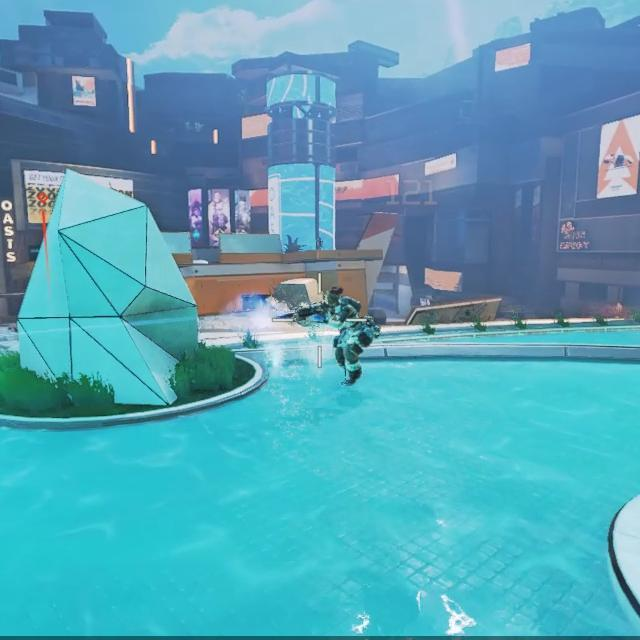avatar: (322, 283, 382, 388)
